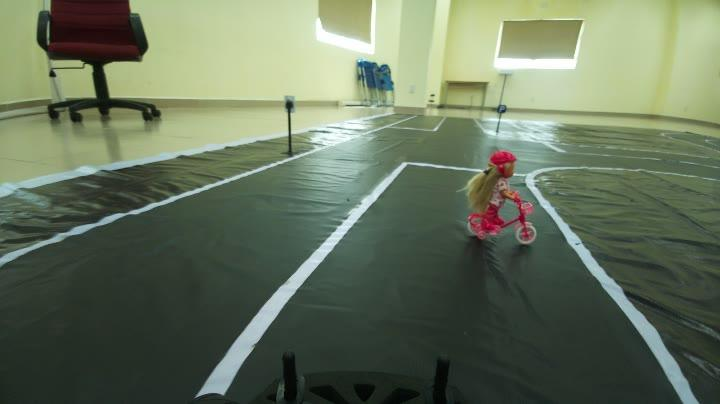pedestrian: (458, 148, 541, 242)
